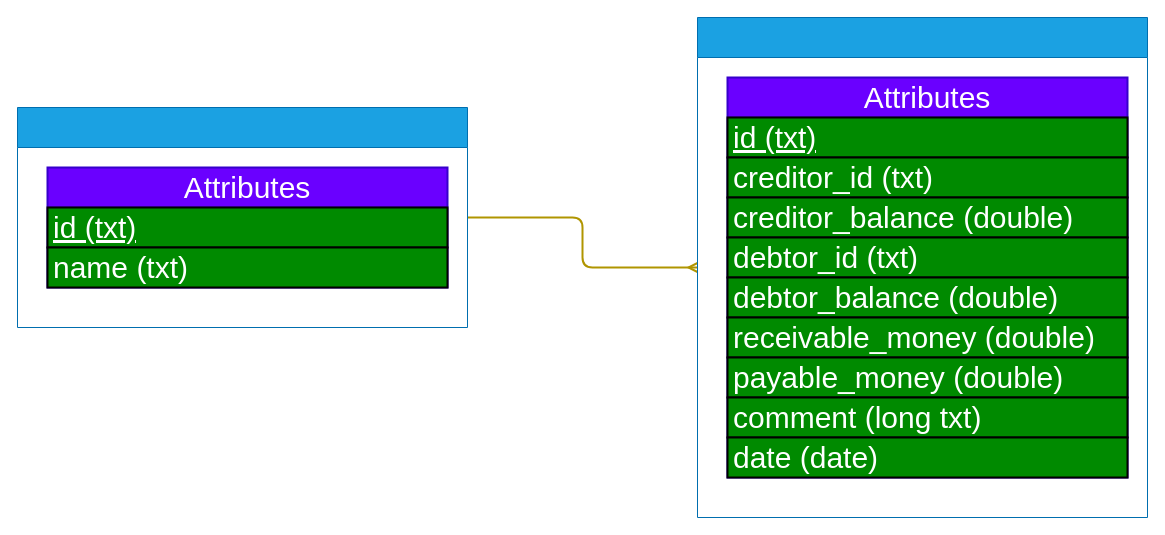
The diagram is 1165 pixels wide and 535 high, and some of its shapes have lost their labels. Each missing label, with the box of its shape:
account: (16, 106, 468, 328)
daily transactions: (696, 16, 1148, 518)
